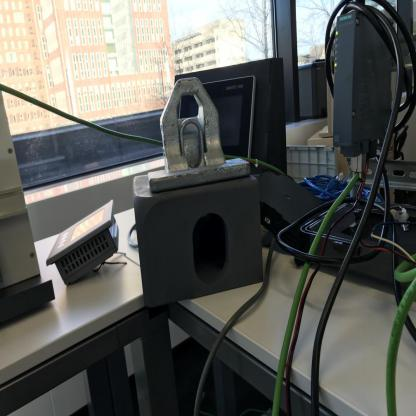CornerCasting: (130, 174, 265, 309)
Twistlock: (146, 68, 256, 200)
